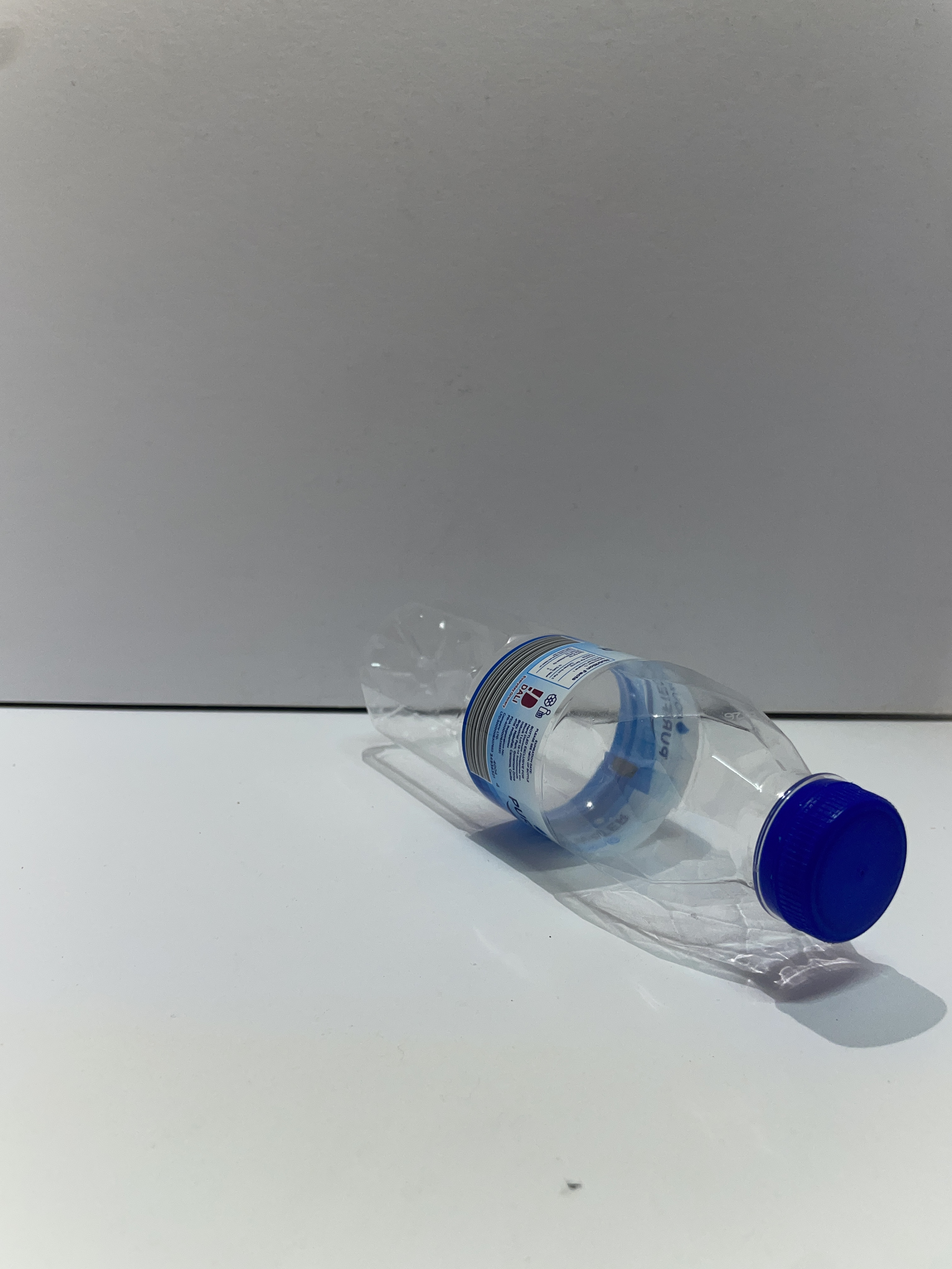Aquaspring 350ml: (362, 605, 906, 943)
